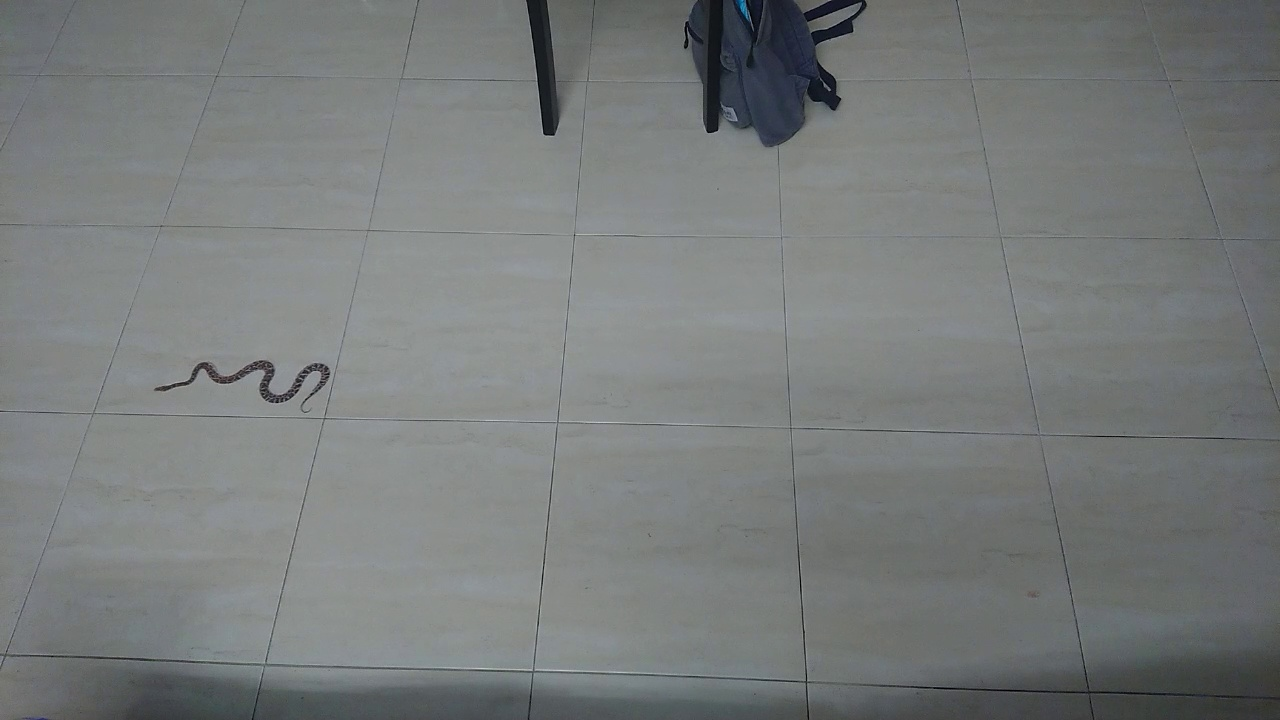snake: (143, 349, 351, 427)
